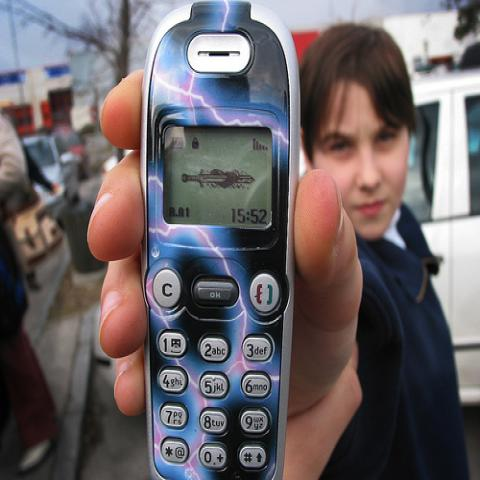car: (400, 69, 480, 407), (23, 131, 79, 217)
